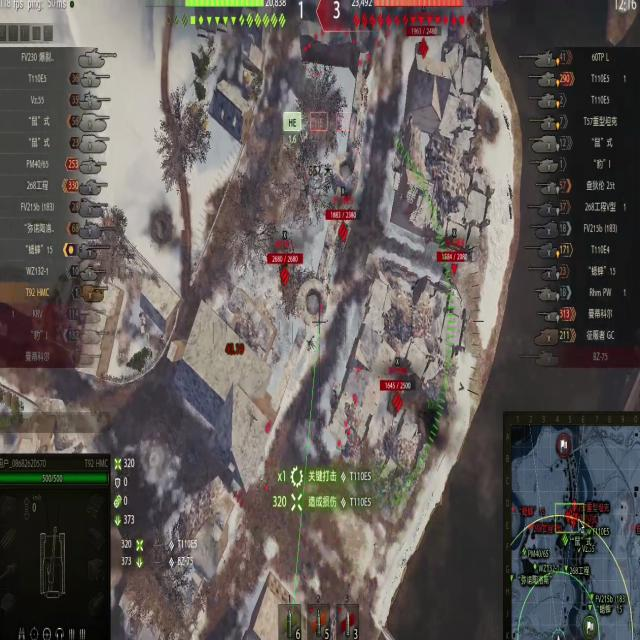tank: (264, 252, 303, 306), (325, 206, 361, 254), (378, 378, 412, 419), (436, 248, 472, 282)
